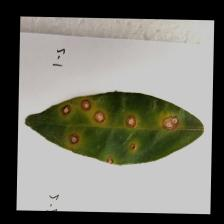canker: (53, 99, 192, 168)
